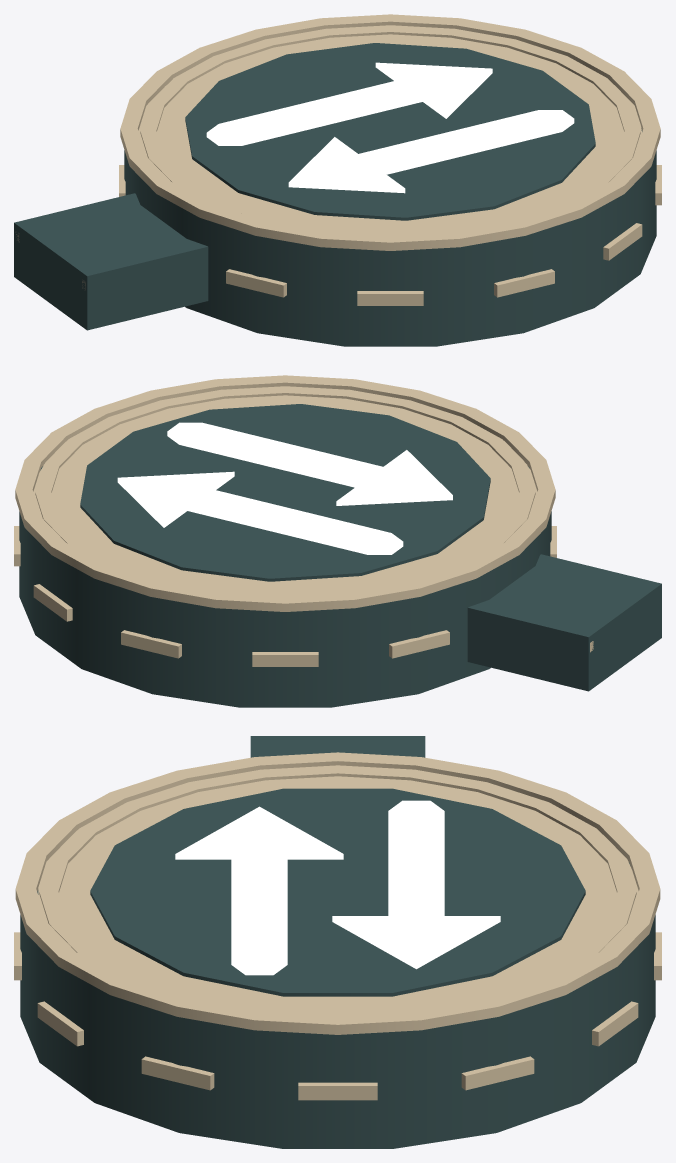
The model's file is Relay_Button_Switch_v2_lab2.glb.
3 renders of one model, top to bottom at view 1: azimuth 30°, elevation 25°; view 2: azimuth 150°, elevation 25°; view 3: azimuth 270°, elevation 25°, orthographic. The views are drawn at different scales.
Parts seen in each view (by area): view 1: Relay_Button_Switch_v2, Glyph, Strut; view 2: Relay_Button_Switch_v2, Glyph, Strut; view 3: Relay_Button_Switch_v2, Glyph, Strut.
Part boxes in pixels (box(x1,y1,x2,y2)): Relay_Button_Switch_v2: box(119, 14, 661, 346); Glyph: box(185, 43, 595, 220); Strut: box(14, 193, 208, 330); Relay_Button_Switch_v2: box(14, 375, 556, 707); Glyph: box(80, 404, 490, 581); Strut: box(467, 554, 661, 691); Relay_Button_Switch_v2: box(14, 752, 661, 1148); Glyph: box(90, 788, 585, 996); Strut: box(250, 736, 425, 757).
Bounding box in the file's own units: 4.99 × 1.61 × 4.08.
